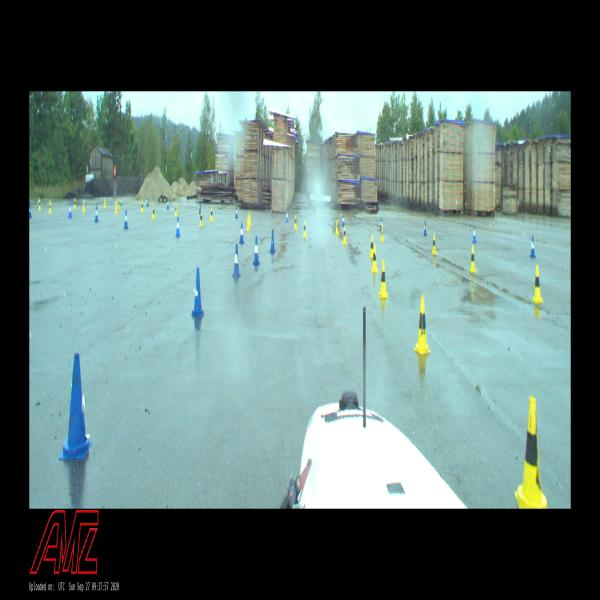blue_cone: (60, 353, 92, 460), (191, 267, 205, 317), (232, 244, 241, 277), (253, 236, 259, 265), (530, 236, 536, 258), (270, 230, 275, 254), (239, 222, 244, 244), (472, 225, 477, 243), (176, 216, 180, 238), (68, 202, 73, 219), (124, 210, 128, 229), (94, 205, 98, 222), (424, 221, 427, 236), (29, 203, 32, 218), (286, 210, 289, 223), (235, 207, 238, 218), (120, 196, 123, 207), (380, 218, 382, 232), (342, 214, 344, 227), (199, 201, 201, 214), (167, 199, 169, 209), (147, 196, 149, 206)
yellow_cone: (515, 397, 547, 508), (413, 296, 431, 354), (532, 265, 543, 303), (379, 260, 388, 298), (371, 244, 378, 273), (470, 245, 476, 272), (432, 234, 437, 254), (342, 226, 347, 244), (199, 211, 204, 227), (370, 234, 373, 258), (303, 220, 307, 238), (380, 224, 384, 241), (335, 219, 339, 235), (246, 215, 250, 230), (48, 200, 52, 213), (82, 200, 86, 212), (152, 205, 155, 220), (294, 214, 297, 229), (249, 211, 252, 226), (210, 207, 213, 221), (115, 201, 118, 214), (141, 200, 144, 212), (38, 198, 41, 210), (118, 199, 121, 210), (104, 198, 107, 208), (175, 203, 177, 216), (74, 198, 76, 209)
